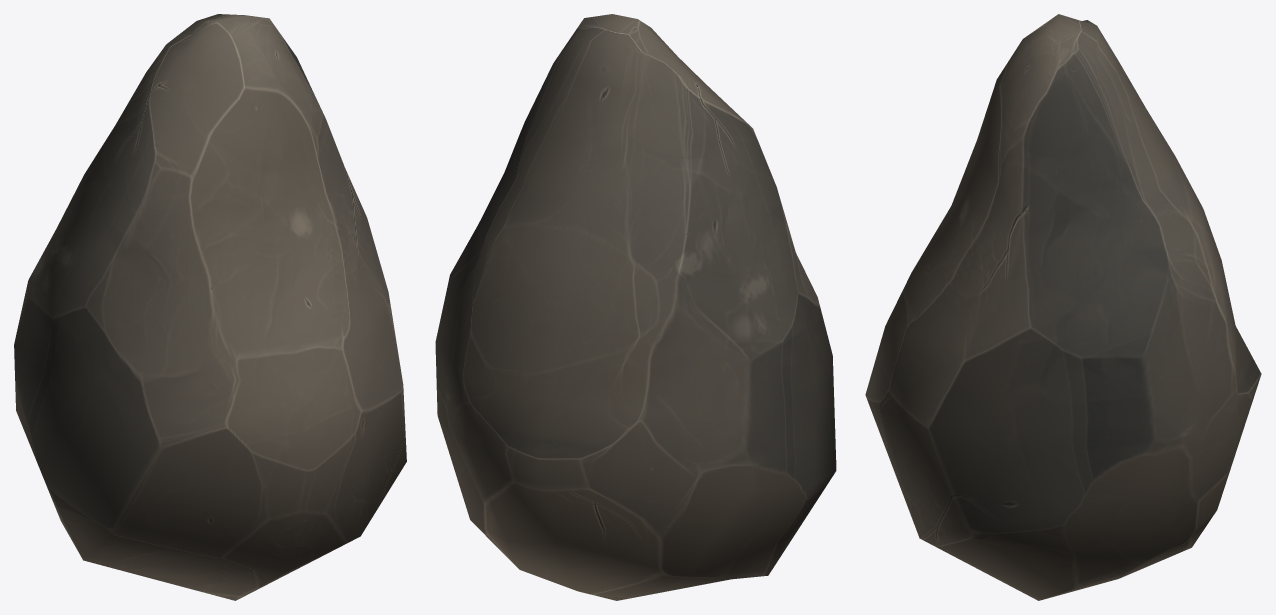
Rendered from taş_1.fbx.
3 renders of one model, left to right at view 1: azimuth 30°, elevation 25°; view 2: azimuth 150°, elevation 25°; view 3: azimuth 270°, elevation 25°, orthographic. The views are drawn at different scales.
Parts seen in each view (by area): view 1: SM_STYLIZEDROCK_1_JFG; view 2: SM_STYLIZEDROCK_1_JFG; view 3: SM_STYLIZEDROCK_1_JFG.
Boxes of the visible parts, x1,y1,x2,y2 form: SM_STYLIZEDROCK_1_JFG: [14, 14, 406, 600]; SM_STYLIZEDROCK_1_JFG: [435, 14, 836, 600]; SM_STYLIZEDROCK_1_JFG: [865, 14, 1261, 600].
Size of the model in its own units: 1.44 by 2.26 by 1.42.
